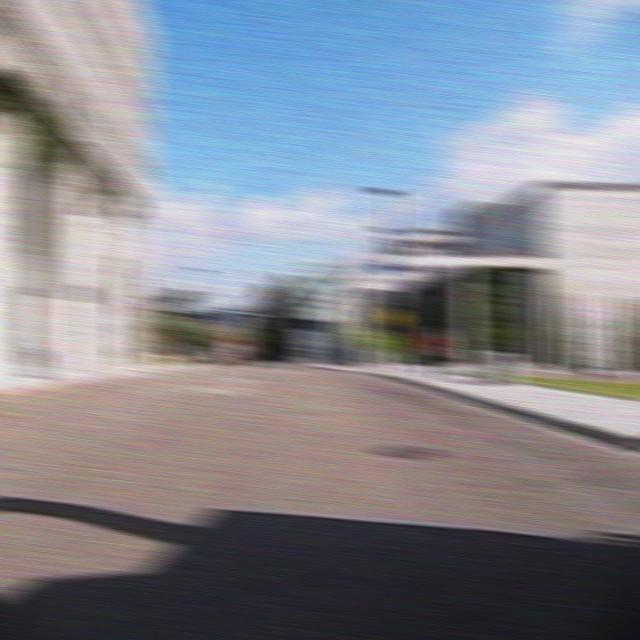pedestrianCrossing: (381, 304, 408, 328)
